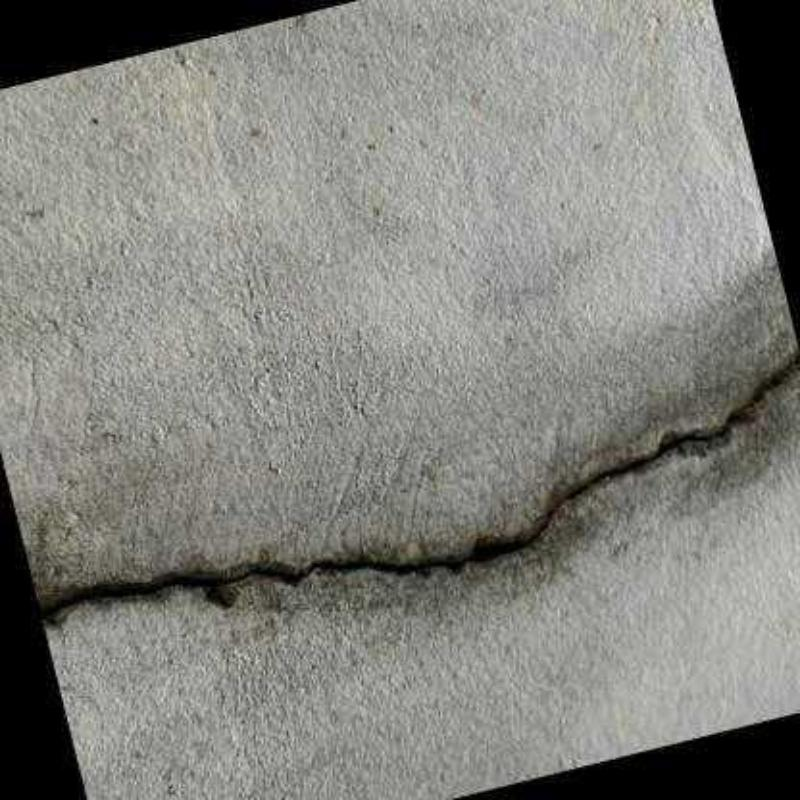pothole: (40, 357, 799, 615)
